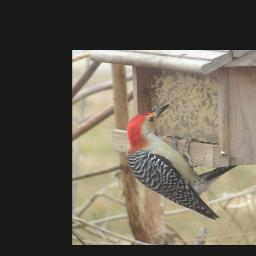Woodpecker: (121, 103, 231, 216)
